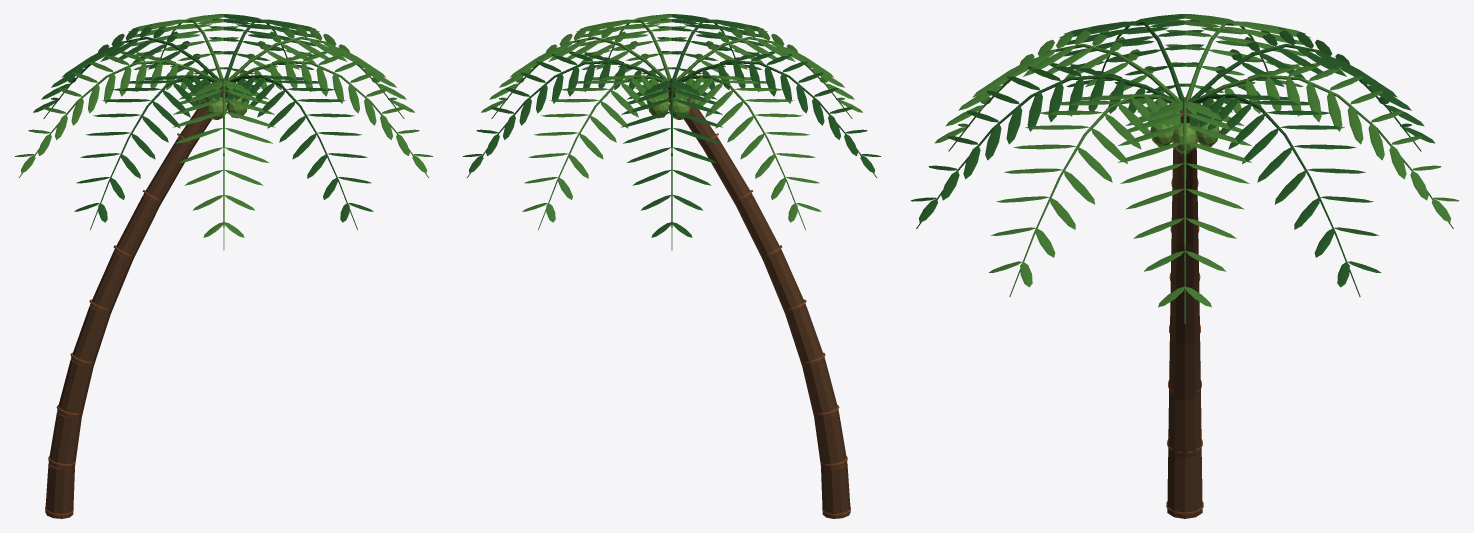
3 views of the same model, side by side, from view 1: azimuth 30°, elevation 25°; view 2: azimuth 150°, elevation 25°; view 3: azimuth 270°, elevation 25° (orthographic). The views are drawn at different scales.
Parts seen in each view (by area): view 1: FROND_Arching.008, FROND_Arching.006, FROND_Arching.007, FROND_Arching.005, FROND_Arching, FROND_Arching.001, FROND_Arching.004, FROND_Arching.002, FROND_Arching.003, TRUNK_CurvedSegment, TRUNK_CurvedSegment.001, TRUNK_CurvedSegment.002 (+5 smaller); view 2: FROND_Arching.003, FROND_Arching.005, FROND_Arching.004, FROND_Arching.002, FROND_Arching.006, FROND_Arching.001, FROND_Arching.007, FROND_Arching, FROND_Arching.008, TRUNK_CurvedSegment, TRUNK_CurvedSegment.001, TRUNK_CurvedSegment.002 (+5 smaller); view 3: FROND_Arching.002, FROND_Arching, FROND_Arching.001, FROND_Arching.003, FROND_Arching.008, FROND_Arching.004, FROND_Arching.007, FROND_Arching.005, FROND_Arching.006, TRUNK_CurvedSegment, TRUNK_CurvedSegment.001, TRUNK_CurvedSegment.002 (+4 smaller).
Part boxes in pixels (bbox=[...]): FROND_Arching.008: bbox=[225, 75, 373, 229]; FROND_Arching.006: bbox=[74, 75, 220, 229]; FROND_Arching.007: bbox=[172, 78, 275, 250]; FROND_Arching.005: bbox=[15, 51, 219, 177]; FROND_Arching: bbox=[228, 51, 432, 177]; FROND_Arching.001: bbox=[226, 24, 414, 118]; FROND_Arching.004: bbox=[33, 24, 221, 118]; FROND_Arching.002: bbox=[209, 14, 319, 80]; FROND_Arching.003: bbox=[128, 14, 238, 80]; TRUNK_CurvedSegment: bbox=[45, 463, 74, 518]; TRUNK_CurvedSegment.001: bbox=[48, 411, 81, 468]; TRUNK_CurvedSegment.002: bbox=[57, 359, 93, 418]; FROND_Arching.003: bbox=[522, 75, 670, 229]; FROND_Arching.005: bbox=[675, 75, 821, 229]; FROND_Arching.004: bbox=[620, 78, 723, 250]; FROND_Arching.002: bbox=[463, 51, 667, 177]; FROND_Arching.006: bbox=[676, 51, 880, 177]; FROND_Arching.001: bbox=[481, 24, 669, 118]; FROND_Arching.007: bbox=[674, 24, 862, 118]; FROND_Arching: bbox=[576, 14, 686, 80]; FROND_Arching.008: bbox=[657, 14, 767, 80]; TRUNK_CurvedSegment: bbox=[821, 463, 850, 518]; TRUNK_CurvedSegment.001: bbox=[814, 411, 847, 468]; TRUNK_CurvedSegment.002: bbox=[802, 359, 838, 418]; FROND_Arching.002: bbox=[1187, 94, 1381, 296]; FROND_Arching: bbox=[988, 94, 1182, 296]; FROND_Arching.001: bbox=[1118, 98, 1251, 323]; FROND_Arching.003: bbox=[1190, 63, 1459, 228]; FROND_Arching.008: bbox=[910, 63, 1179, 228]; FROND_Arching.004: bbox=[1188, 27, 1434, 151]; FROND_Arching.007: bbox=[935, 27, 1181, 151]; FROND_Arching.005: bbox=[1165, 14, 1310, 101]; FROND_Arching.006: bbox=[1059, 14, 1204, 101]; TRUNK_CurvedSegment: bbox=[1167, 452, 1202, 518]; TRUNK_CurvedSegment.001: bbox=[1168, 393, 1201, 457]; TRUNK_CurvedSegment.002: bbox=[1169, 338, 1200, 400].
Size of the model in its own units: 5.57 by 6.21 by 5.64.
